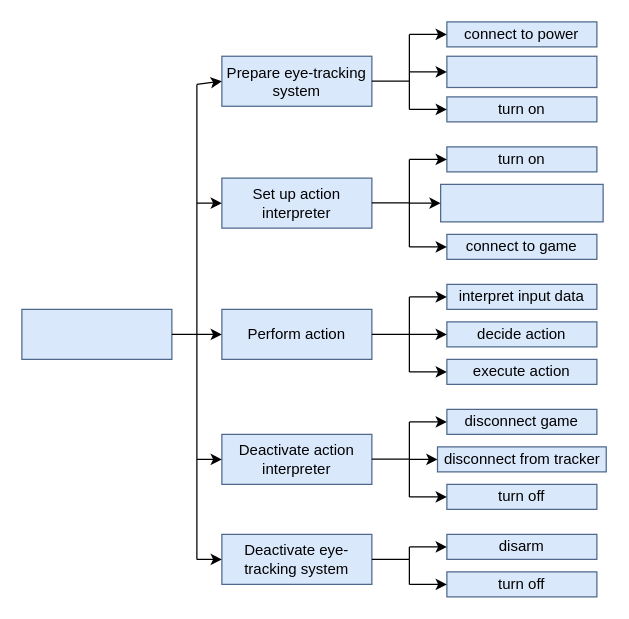
Some shapes in this 629 by 619 pixel diagram are drawn without their labels. The centre of each missing label's shape, as x and y in pixels:
"connect to eye-tracker" goes at point (521, 202).
"Operate Eye-Gaming" goes at point (96, 333).
"place correctly" goes at point (521, 71).
